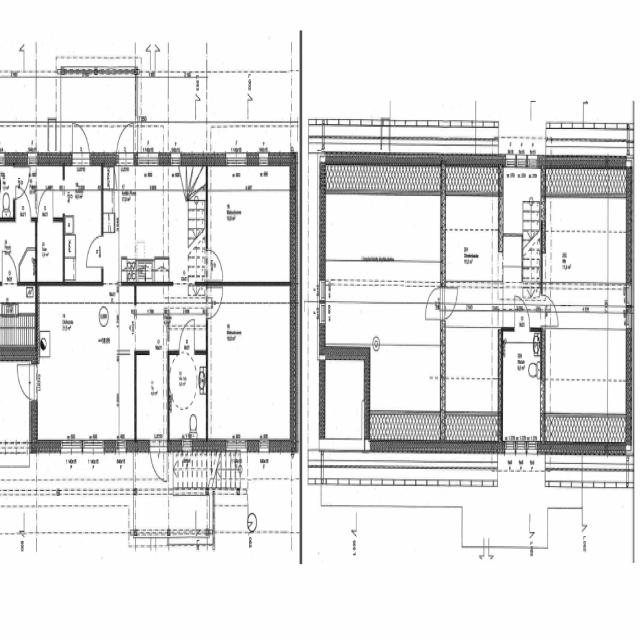door: (12, 366, 38, 401), (72, 116, 90, 166), (117, 116, 134, 167), (150, 439, 167, 489), (424, 287, 446, 321), (440, 287, 462, 321), (541, 295, 561, 325), (15, 186, 31, 221), (2, 250, 17, 286), (179, 319, 194, 355), (515, 296, 530, 332), (38, 186, 53, 221), (87, 236, 103, 267), (13, 168, 29, 198), (206, 288, 222, 318), (206, 250, 222, 280)
